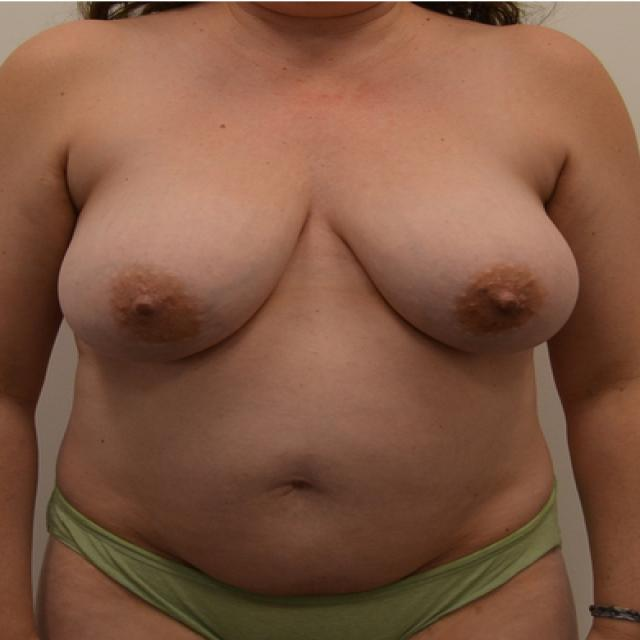Seno ileso: (49, 154, 315, 385), (321, 155, 589, 378)
